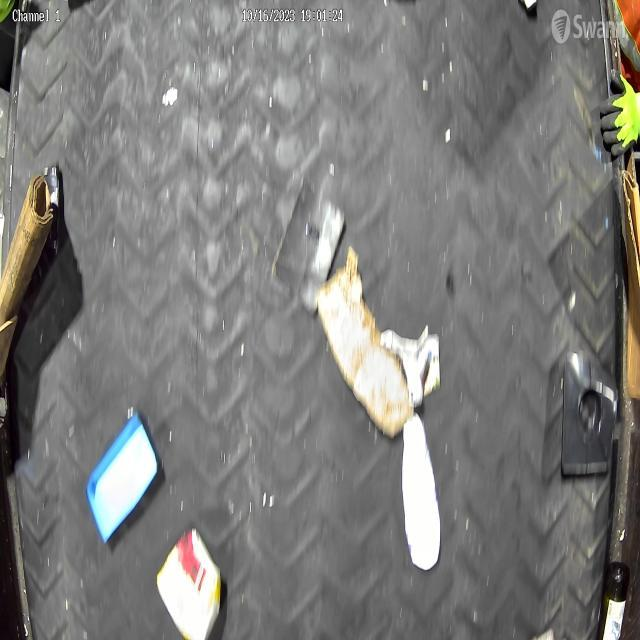can: (156, 528, 223, 640)
